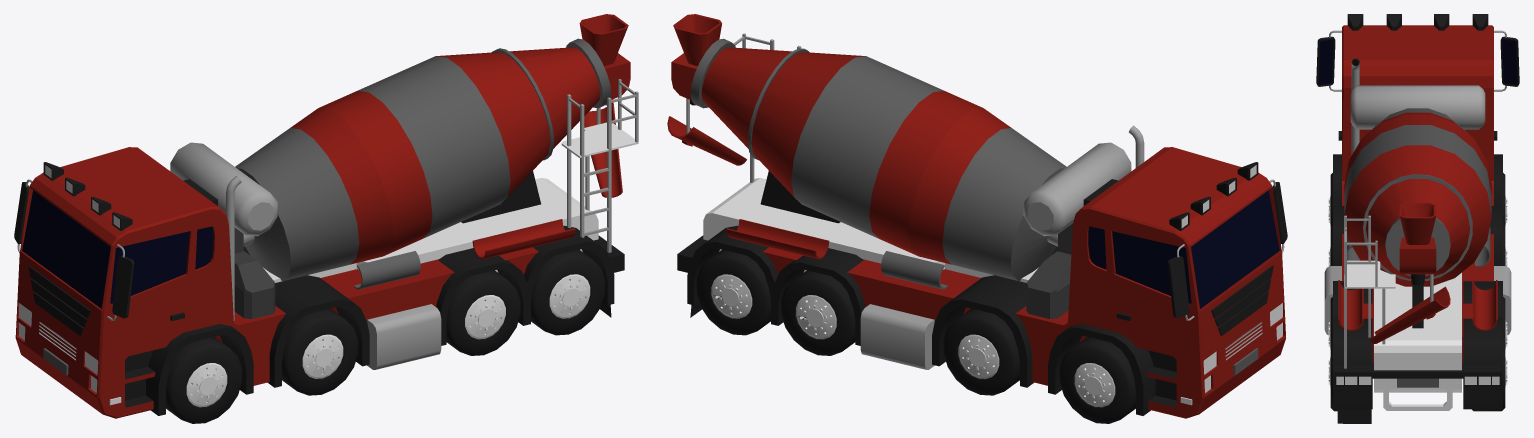
3 renders of one model, left to right at view 1: azimuth 30°, elevation 25°; view 2: azimuth 150°, elevation 25°; view 3: azimuth 270°, elevation 25°, orthographic. The views are drawn at different scales.
Parts seen in each view (by area): view 1: truckMixer; view 2: truckMixer; view 3: truckMixer.
Part boxes in pixels (x1,y1,x2,y2): truckMixer: (14,14,638,423); truckMixer: (667,14,1287,423); truckMixer: (1316,14,1519,423).
Size of the model in its own units: 8.35 by 3.6 by 2.84.
